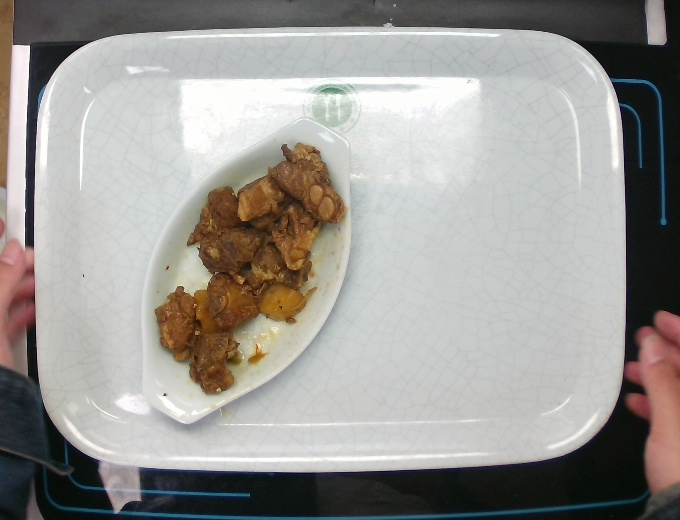JYsf-Yu_Pan: (138, 114, 357, 427)
